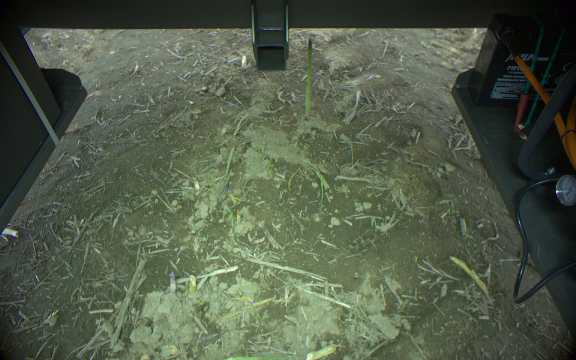aspa: (305, 35, 314, 119), (168, 269, 177, 296)
